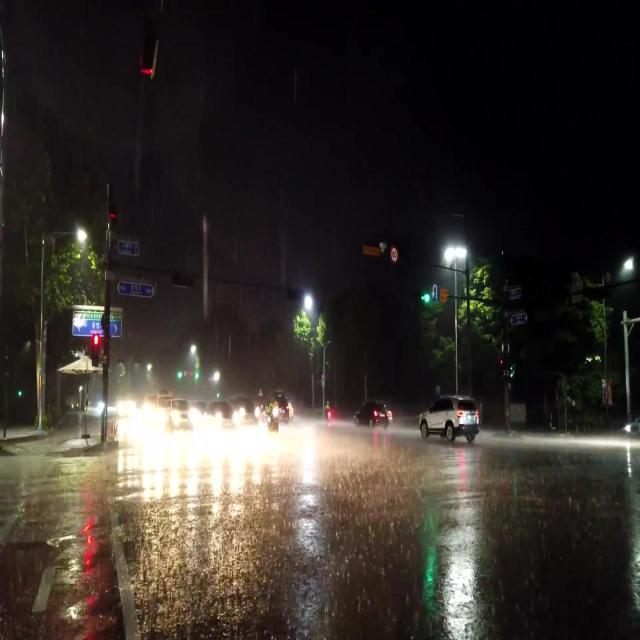Car: (419, 391, 480, 439), (161, 396, 194, 431), (353, 401, 390, 431), (206, 396, 235, 431), (268, 391, 292, 416), (236, 397, 259, 421)
